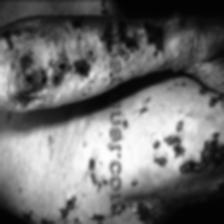Unclassified: (179, 127, 224, 176), (140, 13, 166, 52), (50, 65, 64, 92)
